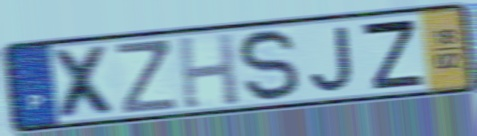H: (174, 30, 242, 111)
J: (308, 23, 356, 94)
S: (236, 26, 303, 105)
X: (48, 43, 122, 121)
Z: (113, 38, 181, 117), (357, 18, 427, 92)
